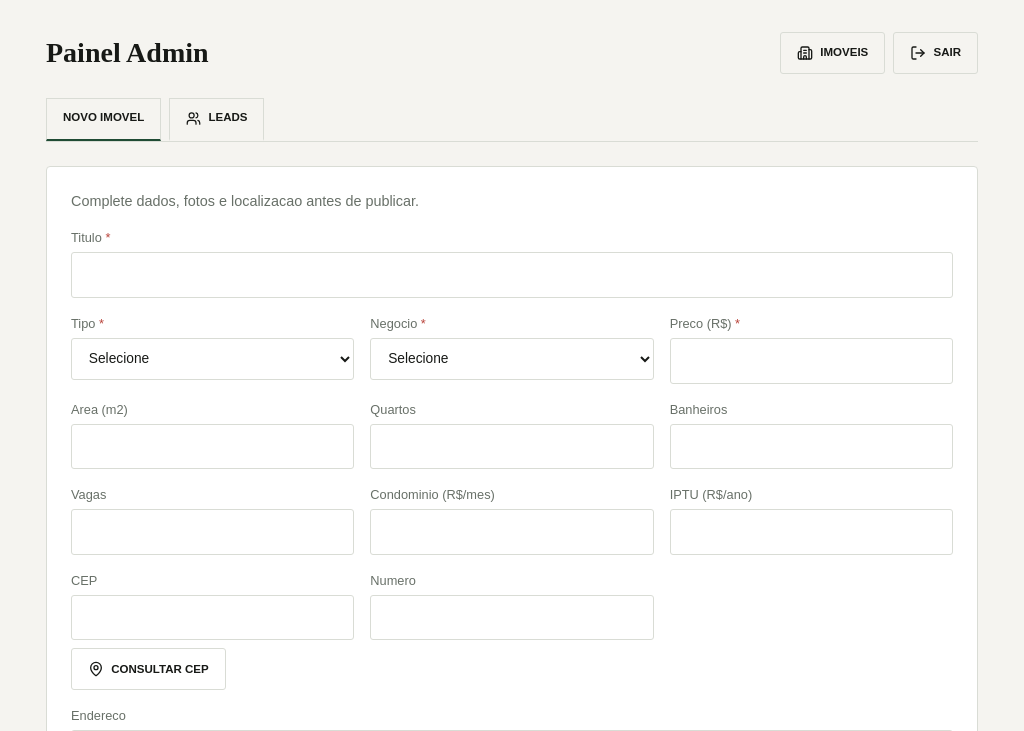
Test: AdminPage › mostra estado vazio quando leads falham e atualiza manualmente
What coordinates should you click on to do the following:
click the button "Leads"
I would click on:
 (217, 119)
Its box is x1=169 y1=98 x2=264 y2=141.
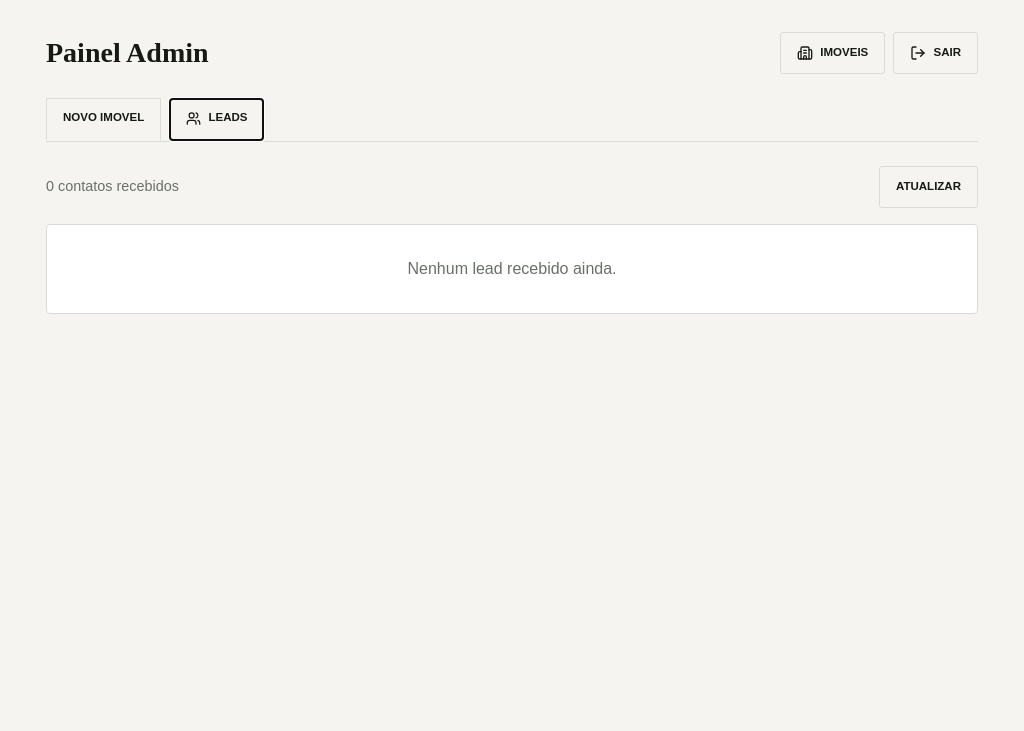
Result: the text "Nenhum lead recebido ainda." is shown at x1=46 y1=224 x2=978 y2=314
What coordinates should you click on to do the following:
click the button "Atualizar"
I would click on:
 (928, 187)
Its box is x1=879 y1=166 x2=978 y2=208.
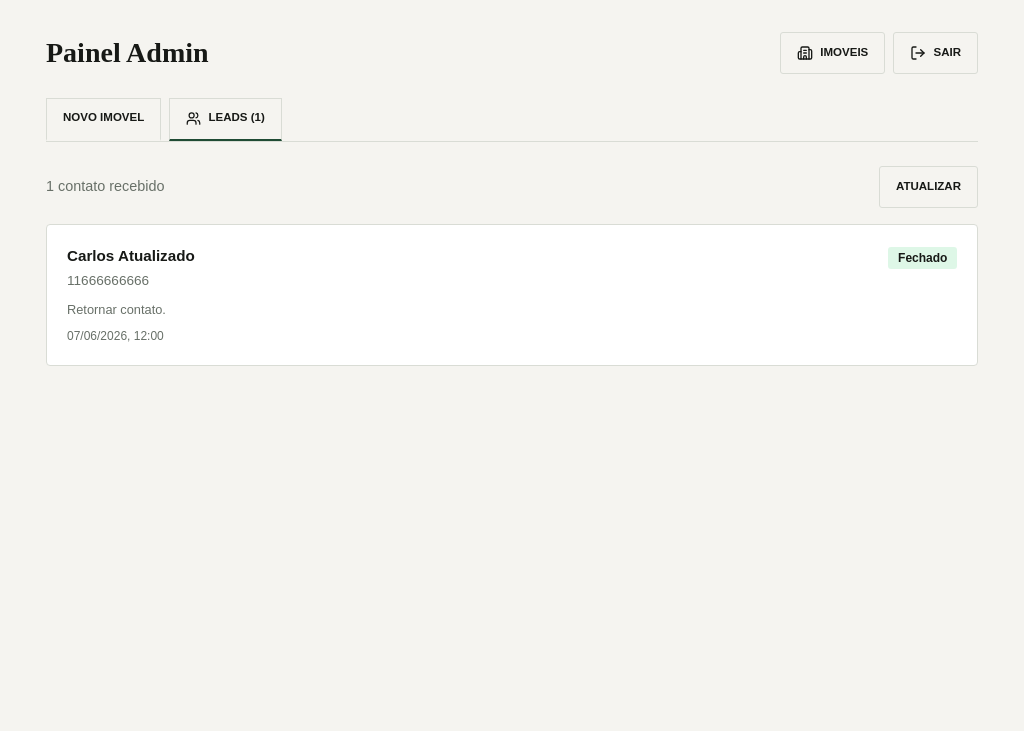
Result: the text "Carlos Atualizado" is shown at x1=67 y1=247 x2=195 y2=264
Result: the text "1 contato recebido" is shown at x1=46 y1=176 x2=164 y2=197
